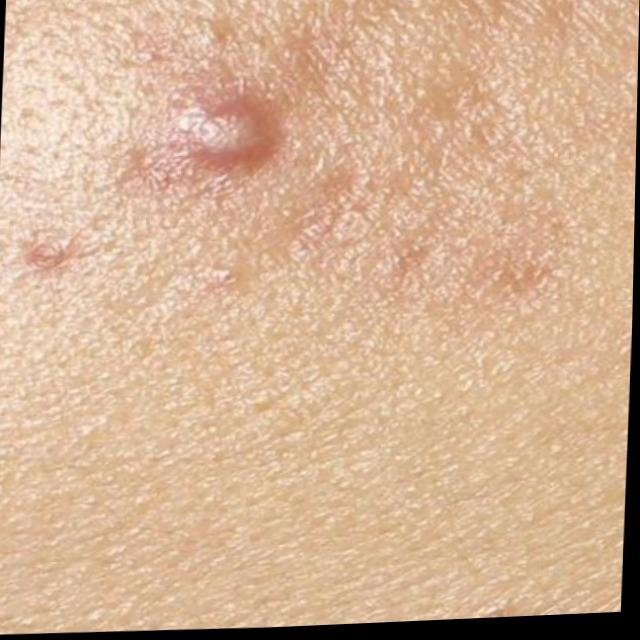Acne: (163, 80, 260, 183)
